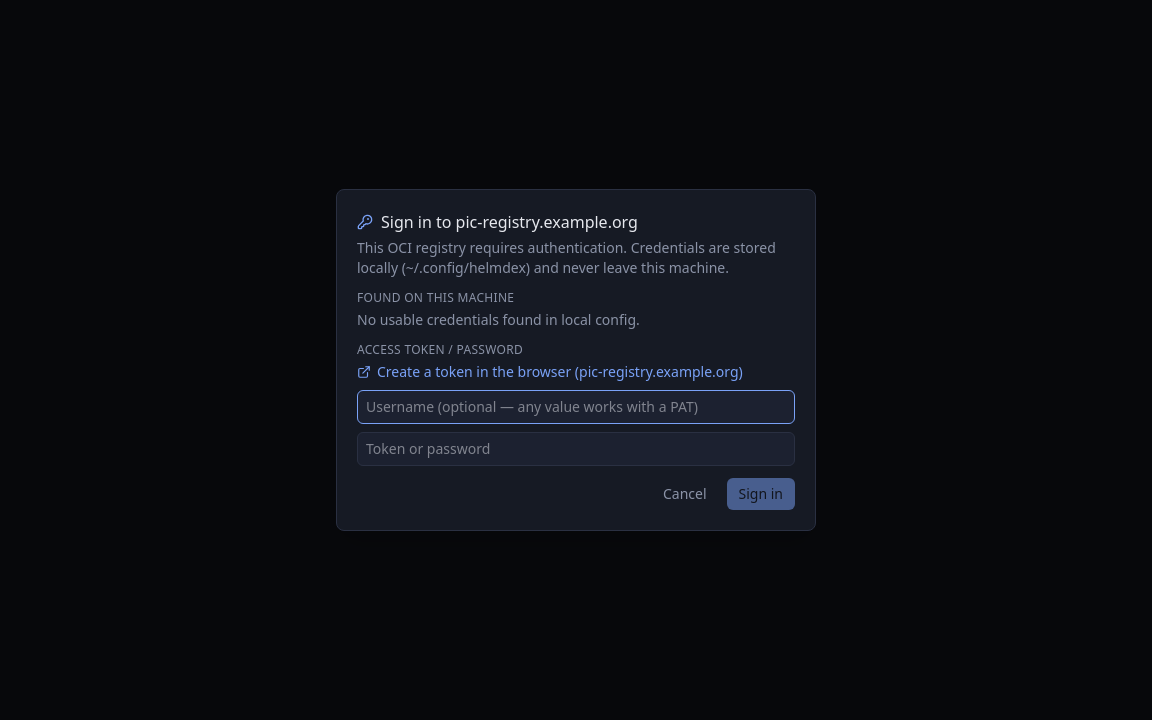
AuthDialog › keeps the dialog open and shows the server message when sign-in fails
The width and height of the screenshot is (1152, 720).
Step 1. Type "bad" into the password field with placeholder "Token or password" → [576, 449], box [357, 432, 795, 466]
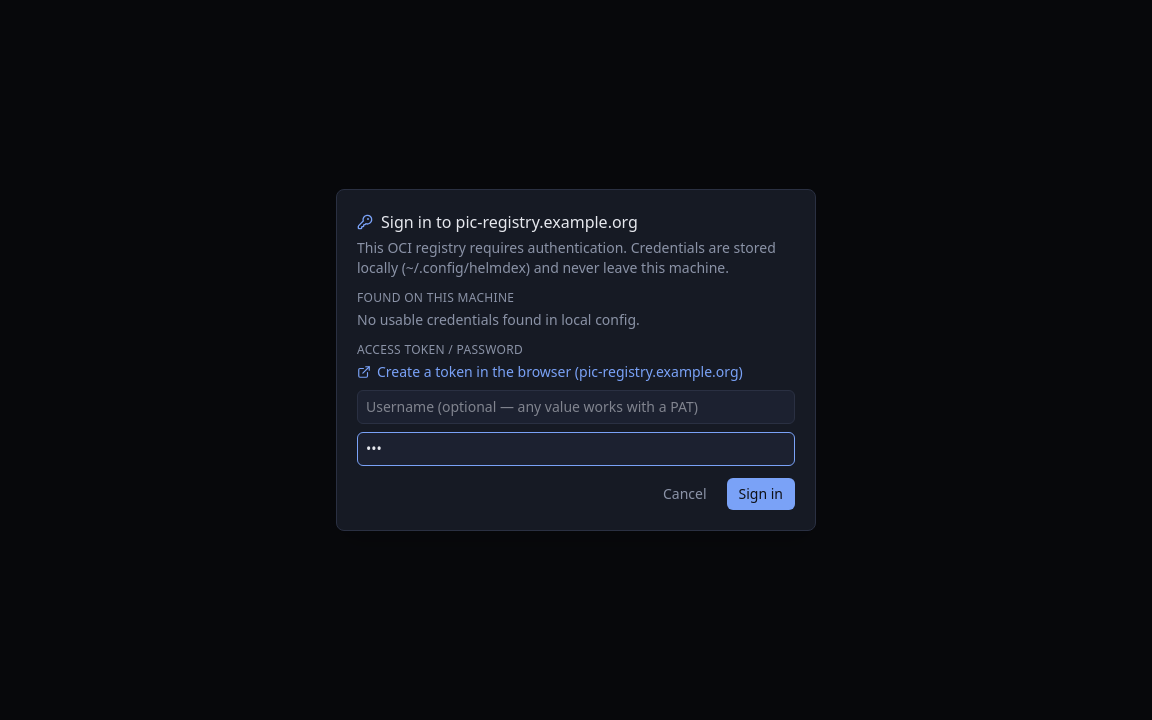
Step 2. Click the button "Sign in" → [761, 494], box [726, 478, 795, 510]
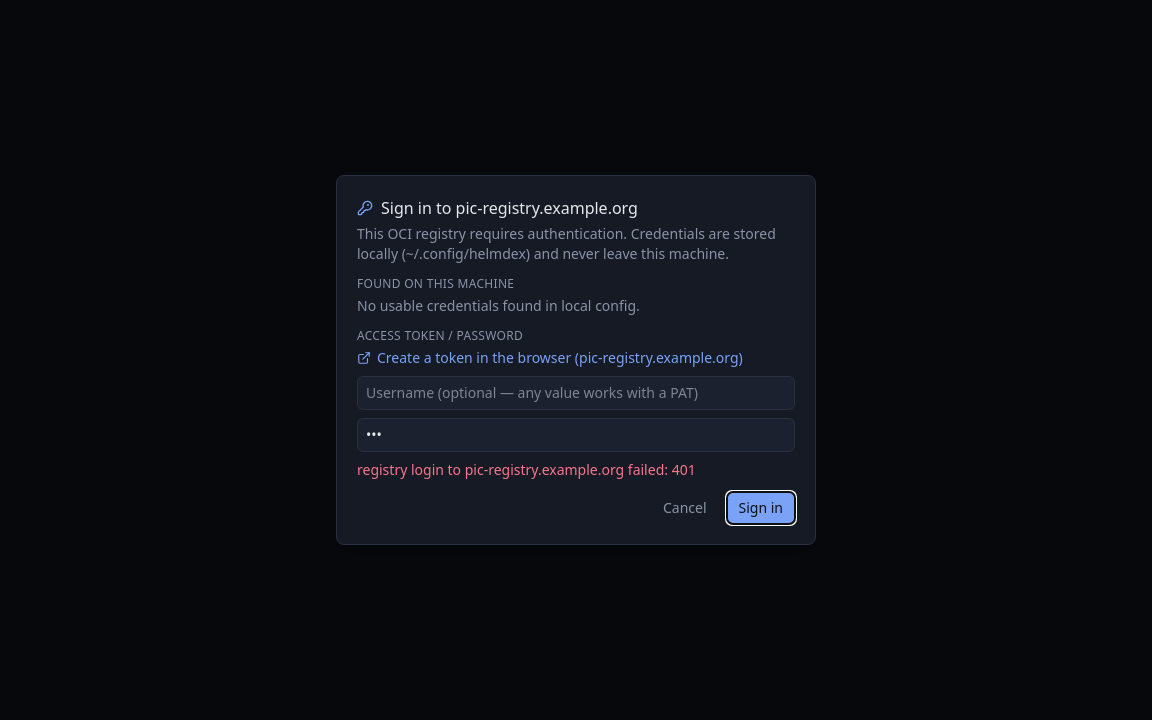
Result: the text "registry login to pic-registry.example.org failed: 401" is shown at [357, 460, 696, 479]
